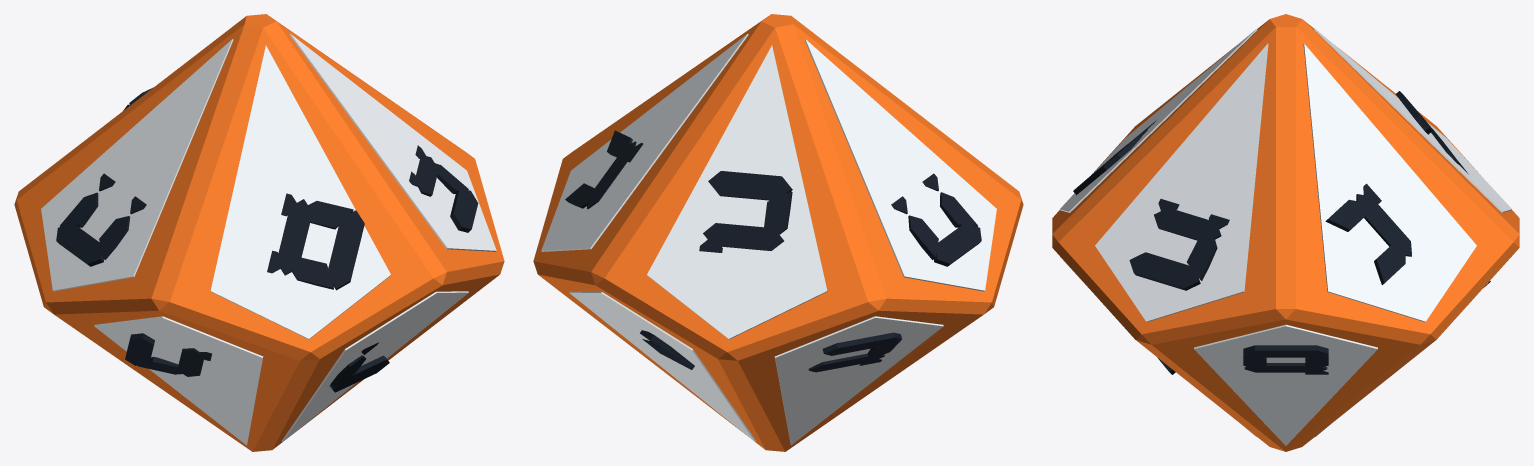
3 views of the same model, side by side, from view 1: azimuth 30°, elevation 25°; view 2: azimuth 150°, elevation 25°; view 3: azimuth 270°, elevation 25° (orthographic).
Parts seen in each view (by area): view 1: CUTLINE d10 canonical sculpture; view 2: CUTLINE d10 canonical sculpture; view 3: CUTLINE d10 canonical sculpture.
Part boxes in pixels (x1,y1,x2,y2): CUTLINE d10 canonical sculpture: (14, 14, 504, 451); CUTLINE d10 canonical sculpture: (533, 14, 1023, 451); CUTLINE d10 canonical sculpture: (1052, 14, 1519, 451).
Size of the model in its own units: 1.95 by 1.85 by 1.85.
